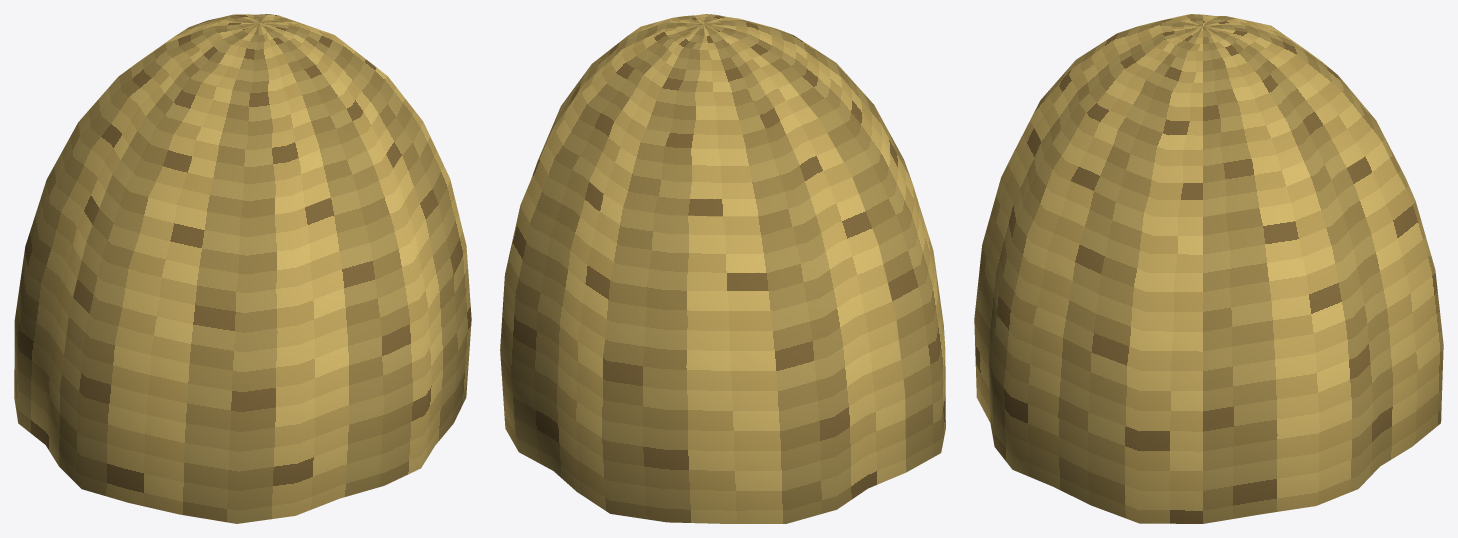
Rendered from seno.glb.
3 views of the same model, side by side, from view 1: azimuth 30°, elevation 25°; view 2: azimuth 150°, elevation 25°; view 3: azimuth 270°, elevation 25° (orthographic). The views are drawn at different scales.
Visible parts, largest first — view 1: seno; view 2: seno; view 3: seno.
Part boxes in pixels (x1=…): seno: x1=14, y1=14, x2=471, y2=523; seno: x1=500, y1=14, x2=945, y2=523; seno: x1=974, y1=14, x2=1443, y2=523.
Bounding box in the file's own units: 1.03 × 1 × 1.04.
1 material, 1 textured.
